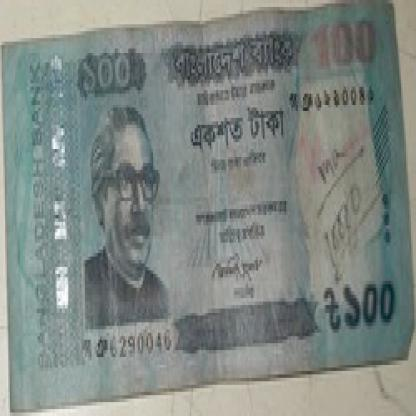one hundred taka: (310, 14, 382, 73), (339, 270, 401, 333), (74, 48, 142, 100)
